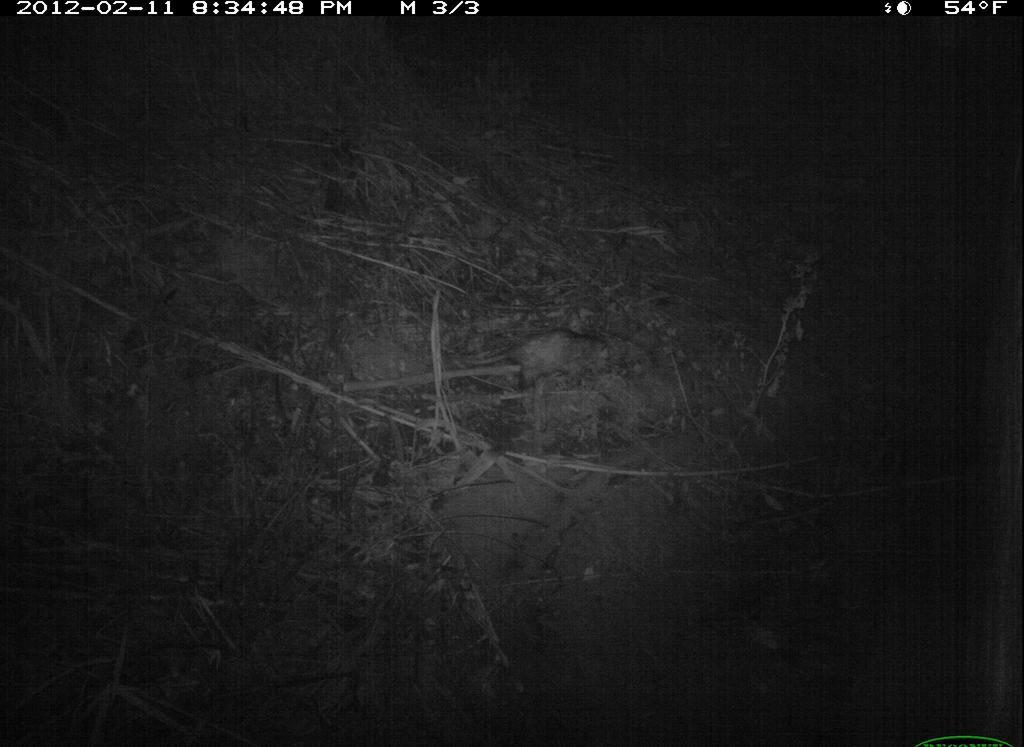opossum: (447, 315, 623, 404)
